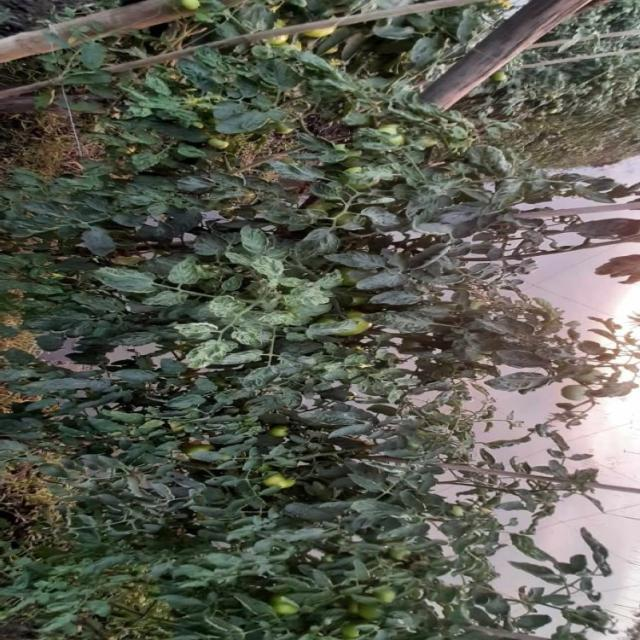tomato: (262, 466, 299, 494), (271, 596, 301, 630), (344, 619, 366, 640), (274, 26, 294, 46), (383, 586, 400, 606)
